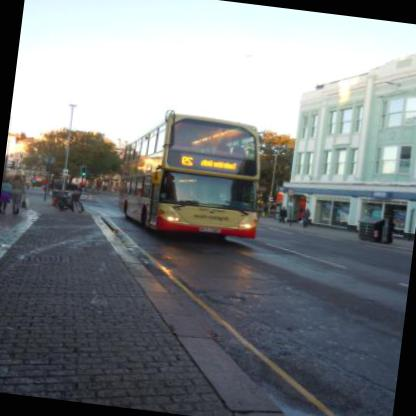bus: (113, 103, 270, 245)
